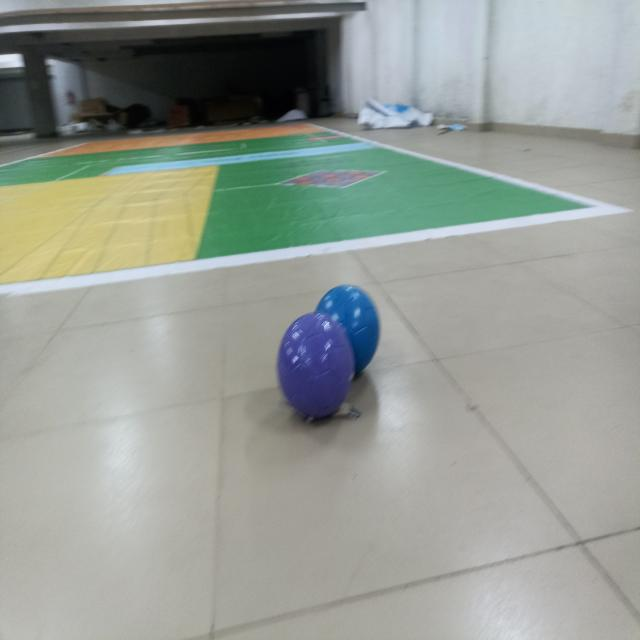blue_ball: (316, 284, 382, 373)
purple_ball: (277, 313, 353, 421)
